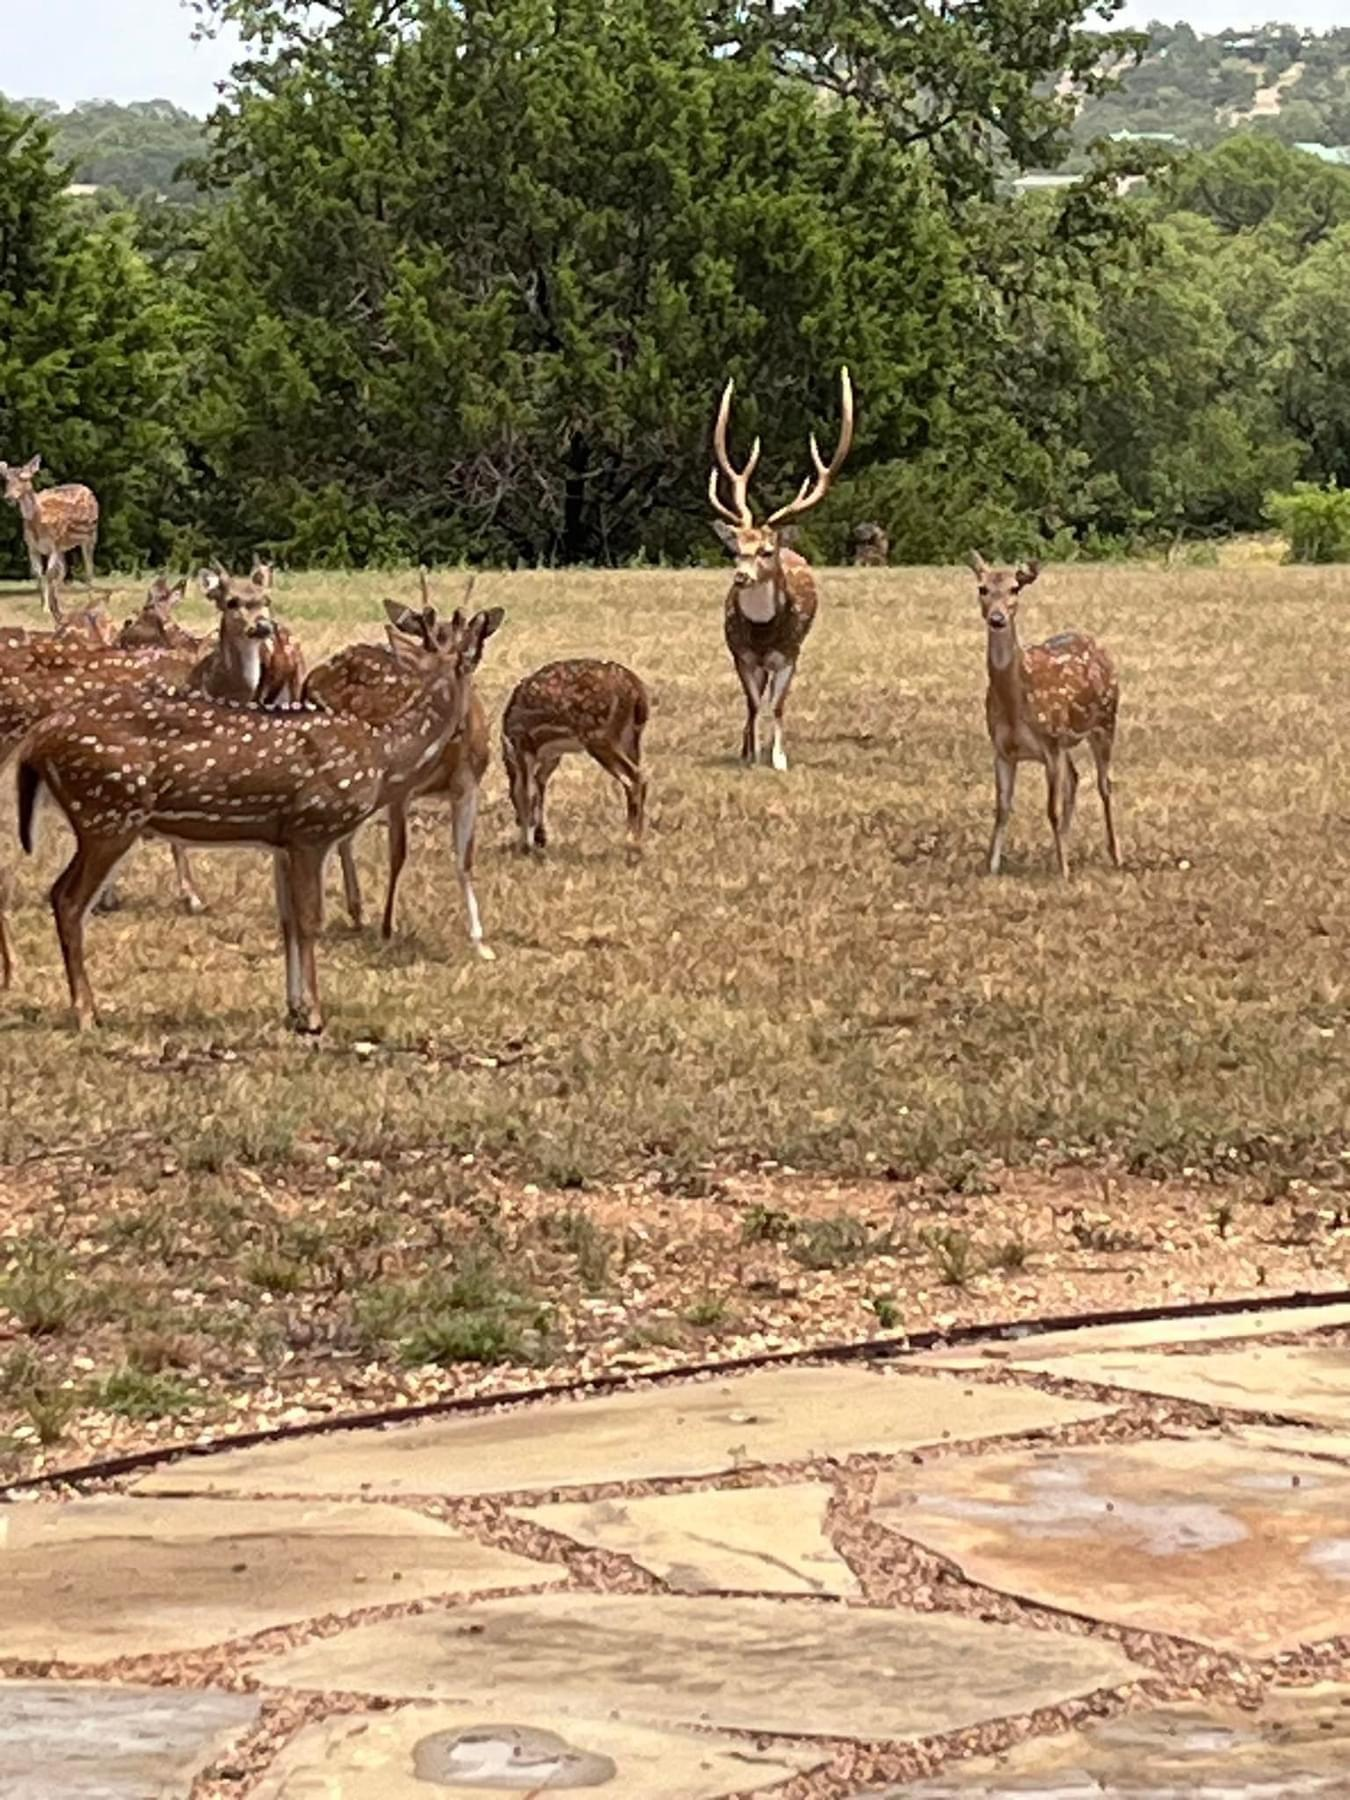Deer: (16, 607, 501, 1035), (708, 373, 854, 771), (971, 551, 1120, 873), (502, 658, 649, 855), (0, 456, 99, 619), (190, 570, 271, 702)
